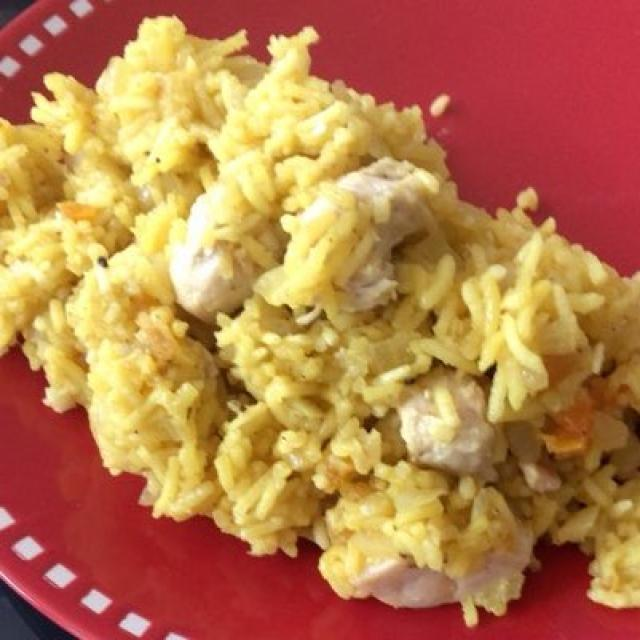chicken: (175, 152, 535, 604)
rice: (9, 28, 634, 607)
